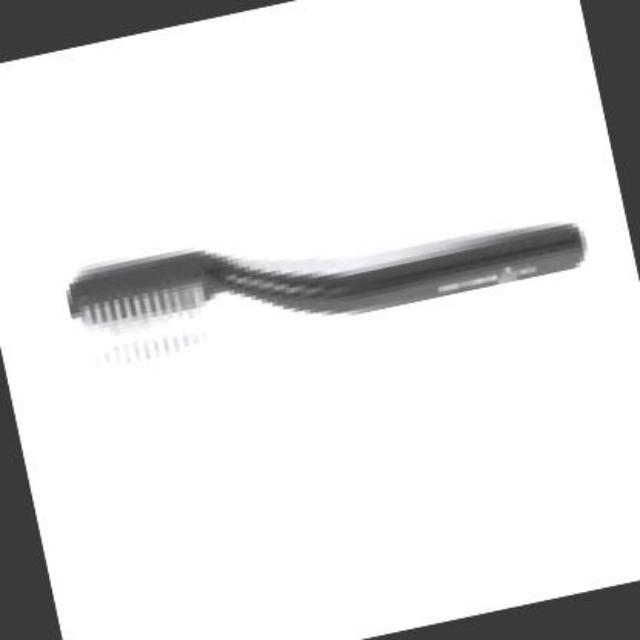toothbrush: (22, 129, 618, 441)
